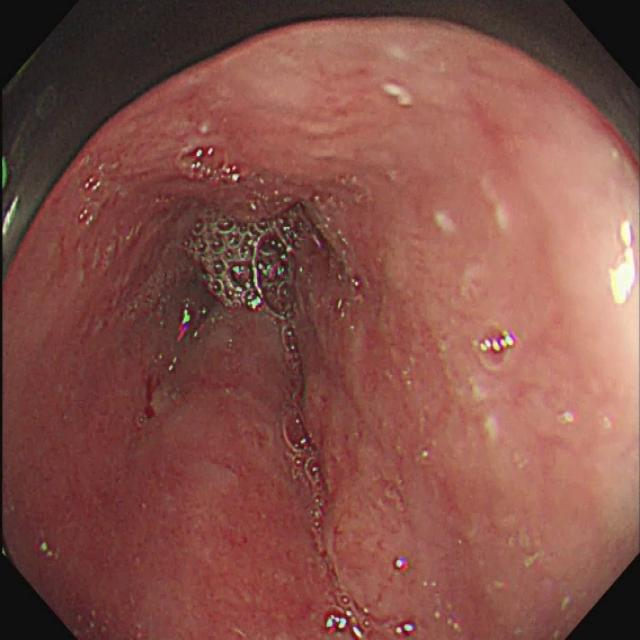A: (328, 477, 411, 620)
C: (140, 374, 165, 429)
T: (183, 206, 306, 322), (282, 321, 332, 549), (322, 592, 420, 640), (178, 142, 247, 189), (474, 323, 523, 374), (77, 161, 105, 227), (178, 300, 207, 345)
U: (607, 216, 638, 307)
